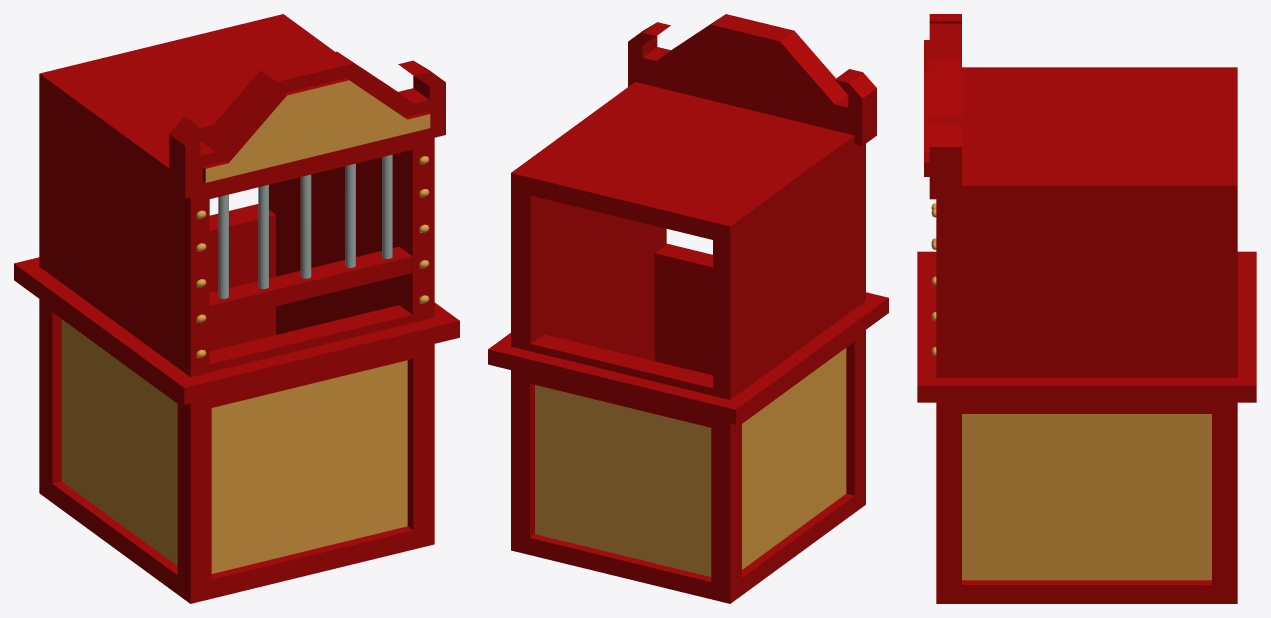
File: F_Ticket_01.fbx
3 views of the same model, side by side, from view 1: azimuth 30°, elevation 25°; view 2: azimuth 150°, elevation 25°; view 3: azimuth 270°, elevation 25° (orthographic). The views are drawn at different scales.
Parts seen in each view (by area): view 1: F_Ticket_01; view 2: F_Ticket_01; view 3: F_Ticket_01.
Boxes of the visible parts, box(x1,y1,x2,y2) form: F_Ticket_01: box(14, 14, 459, 603); F_Ticket_01: box(488, 14, 888, 603); F_Ticket_01: box(917, 14, 1256, 603).
Bounding box in the file's own units: 154 × 270 × 165.
